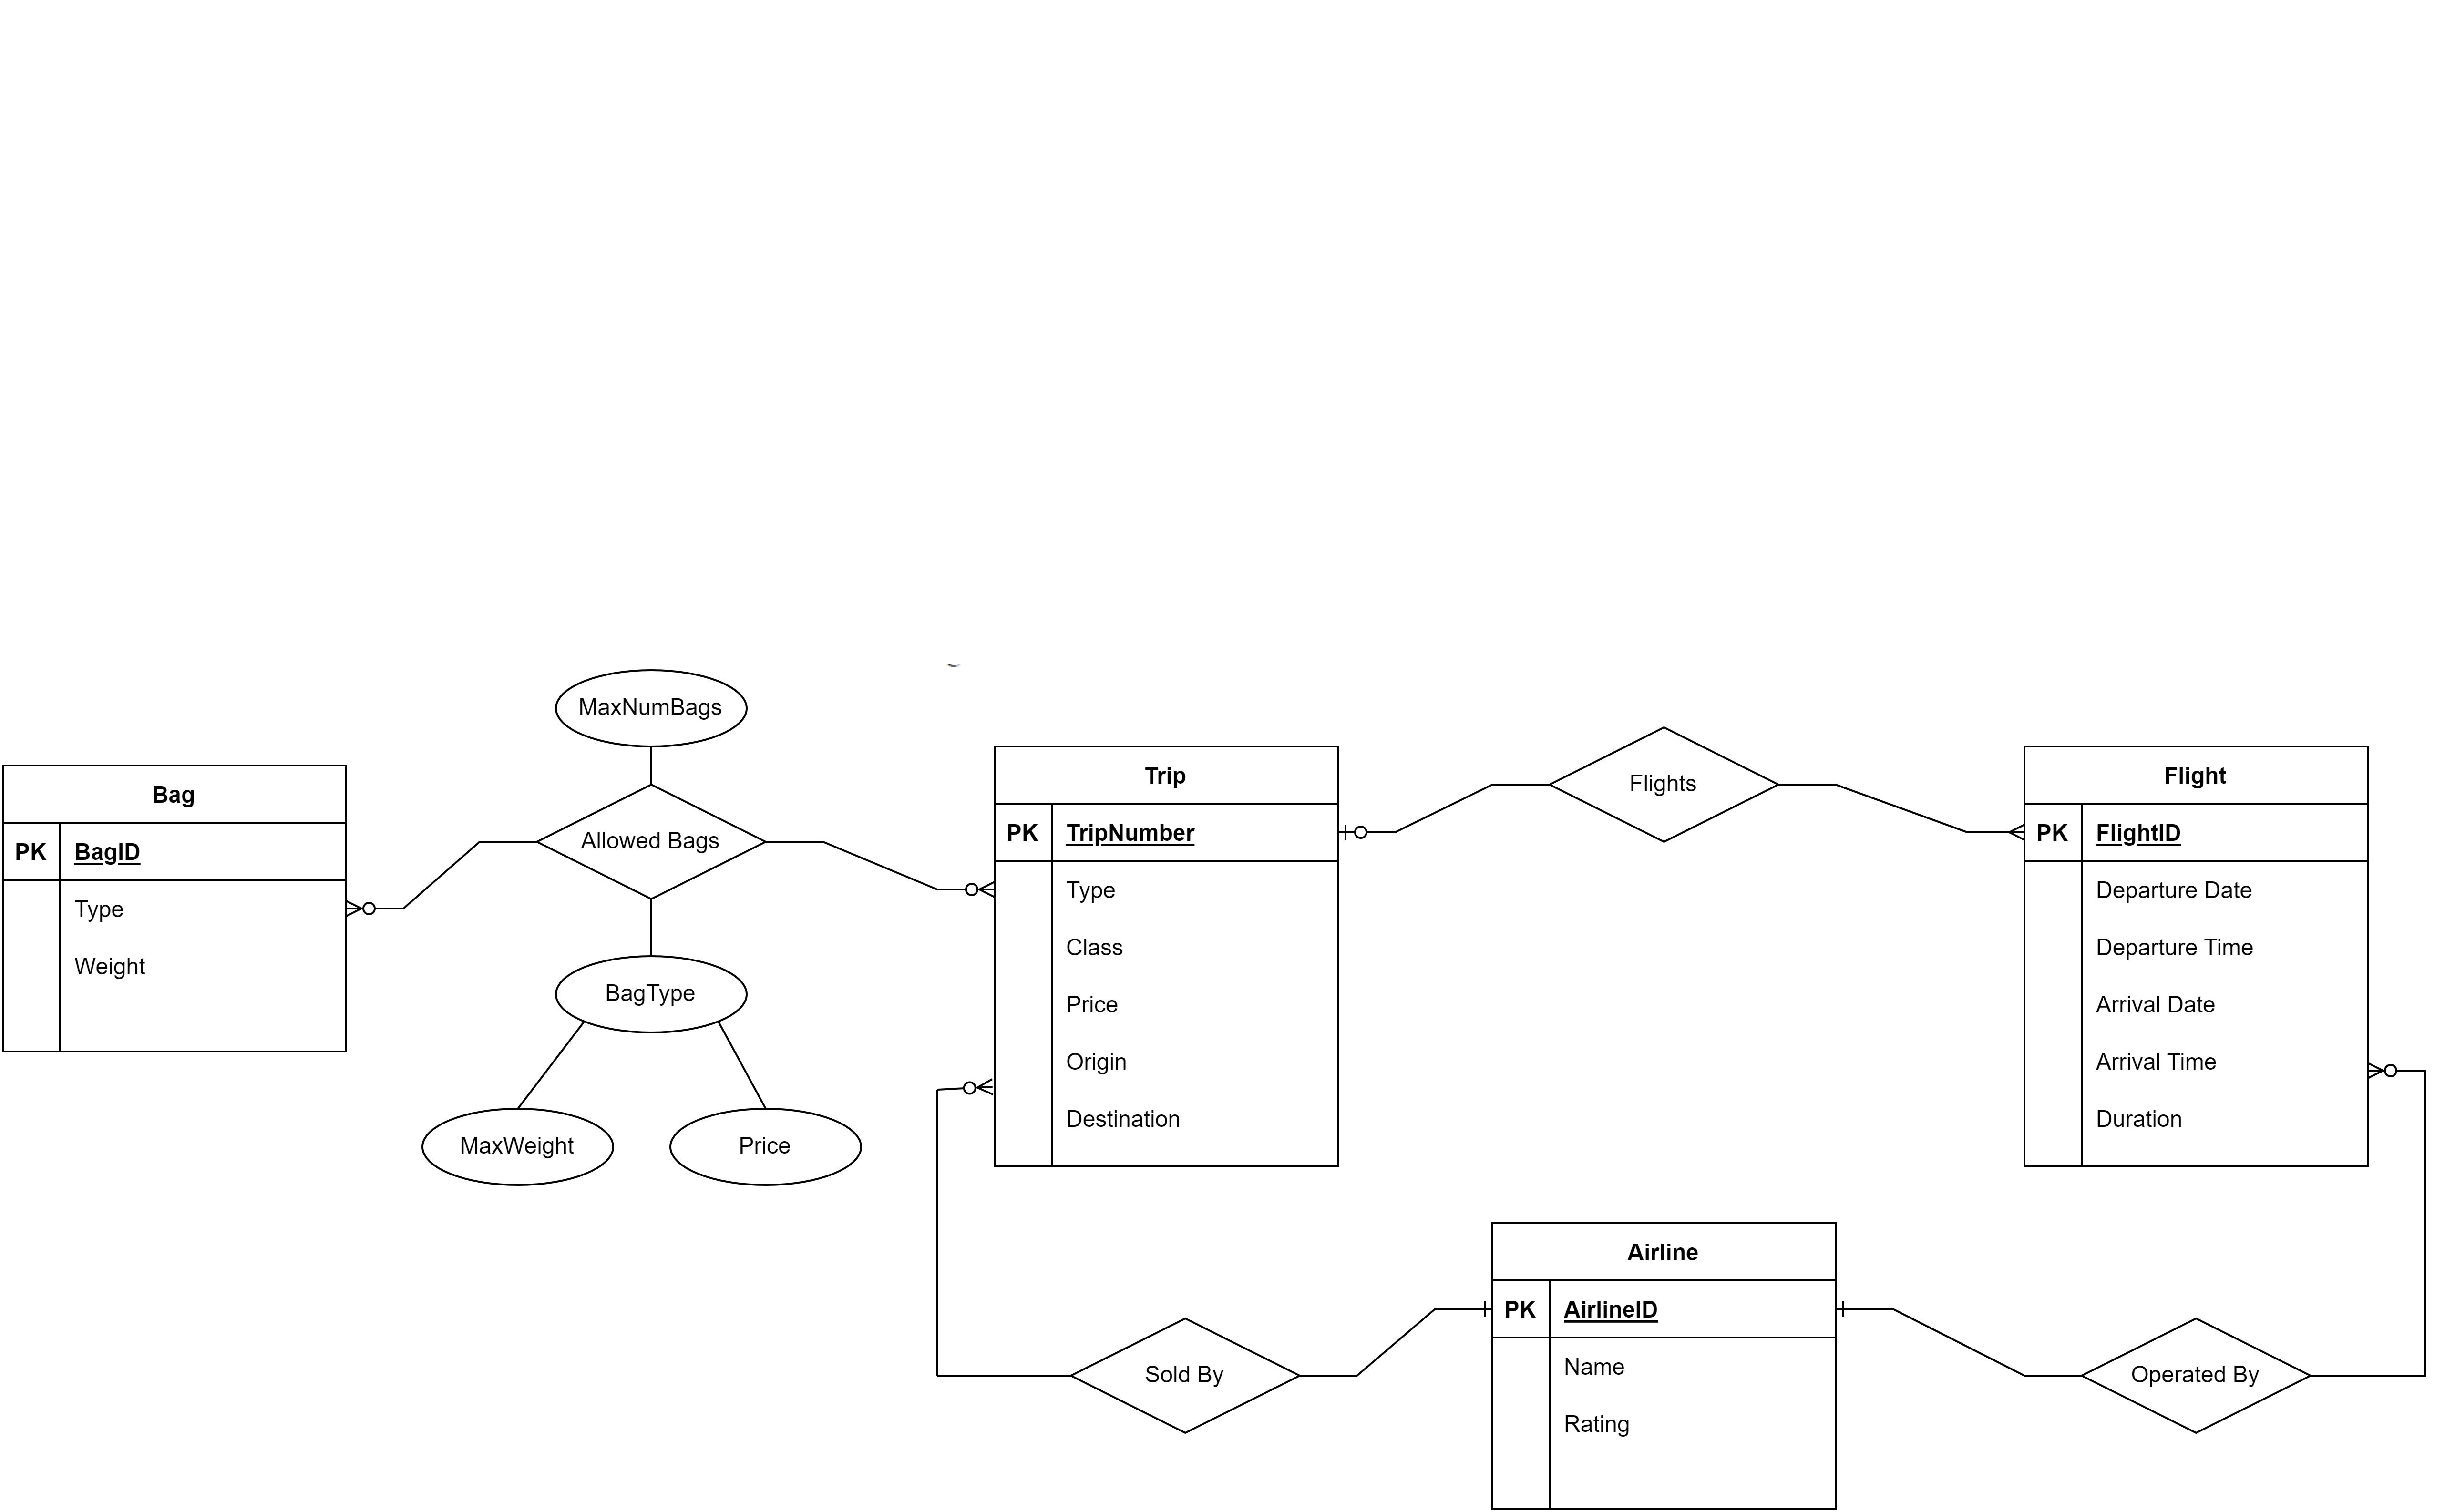attribute: (421, 1110, 616, 1187), (559, 669, 746, 749), (557, 957, 746, 1034), (671, 1110, 859, 1187)
entity: (990, 739, 1345, 1170), (2019, 749, 2379, 1170), (1484, 1215, 1841, 1512), (0, 763, 349, 1058)
relationship: (2087, 1318, 2311, 1433), (1076, 1318, 1294, 1433), (541, 789, 767, 896), (1551, 733, 1778, 838)
